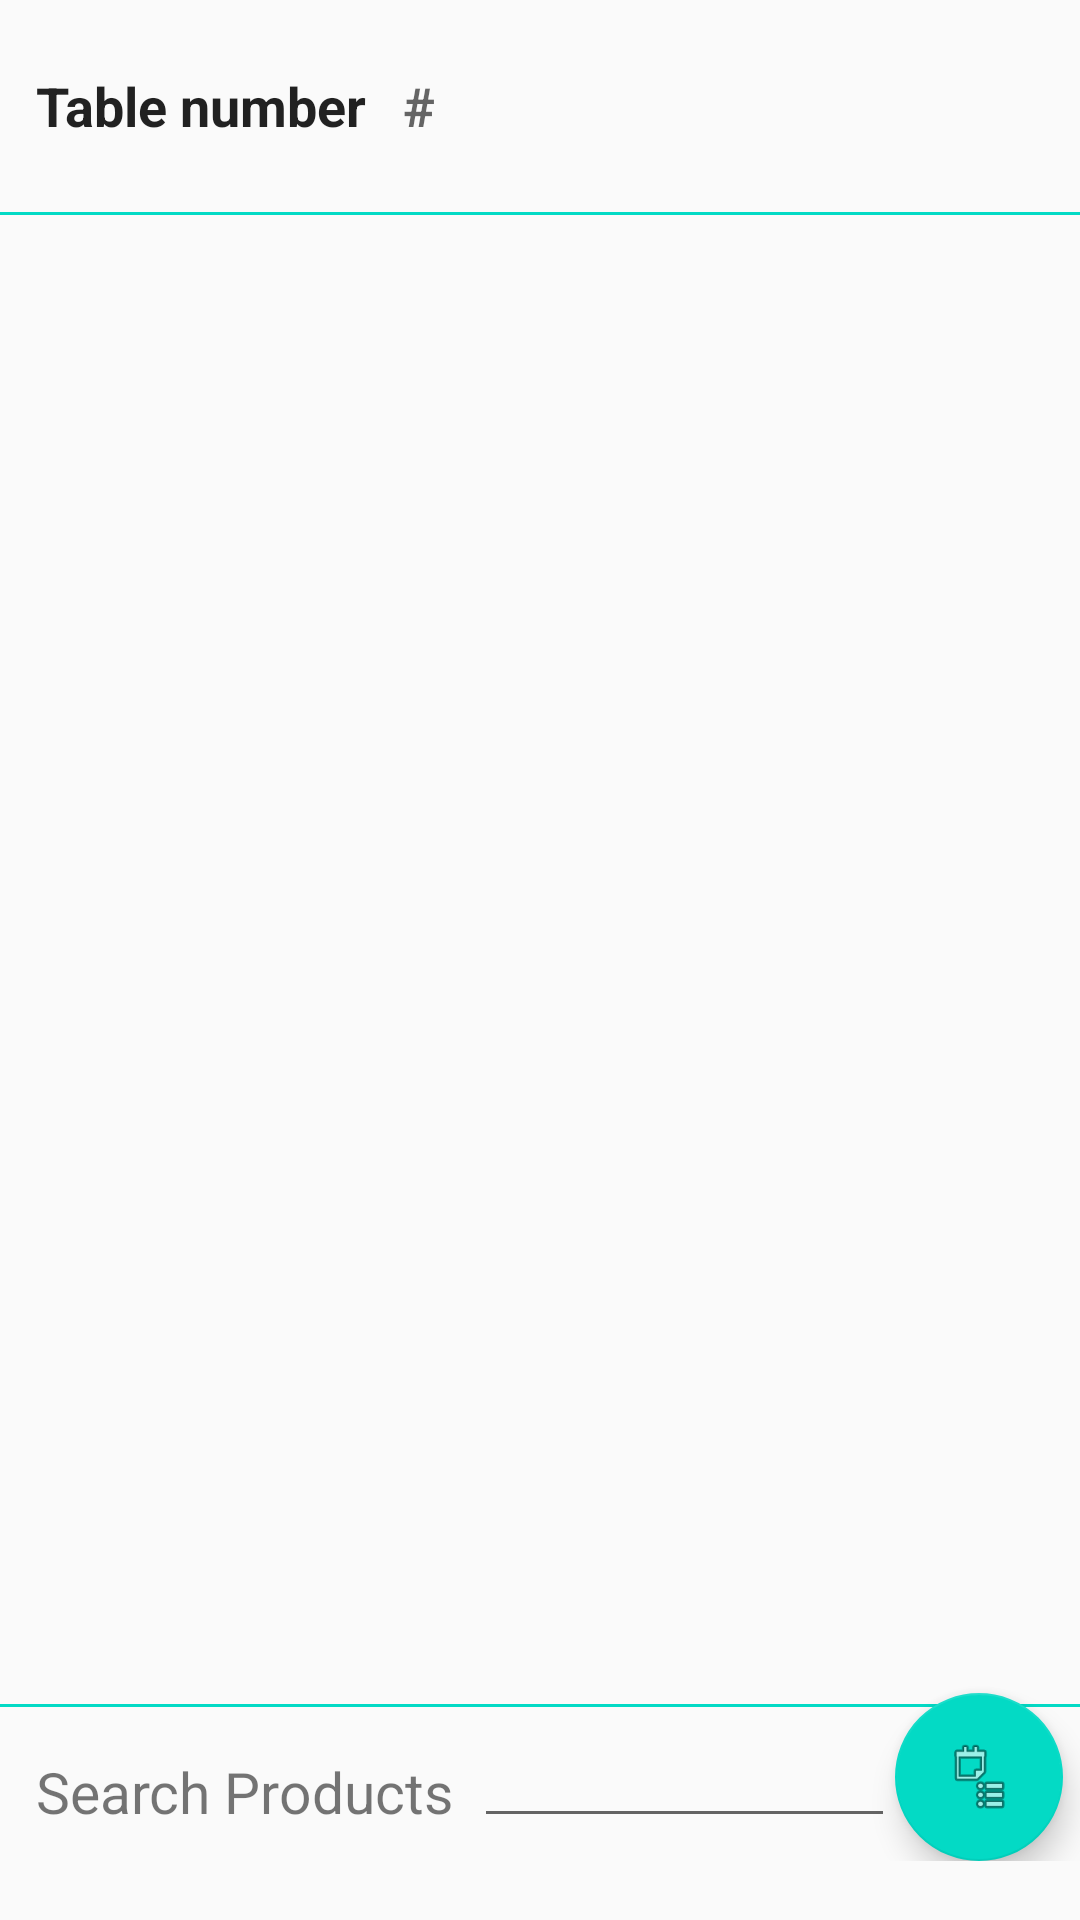

Screen size 1080 x 1920. Icon name, then its box in pixels as (x1, y1, x2, y2):
agenda: (895, 1693, 1063, 1861)
